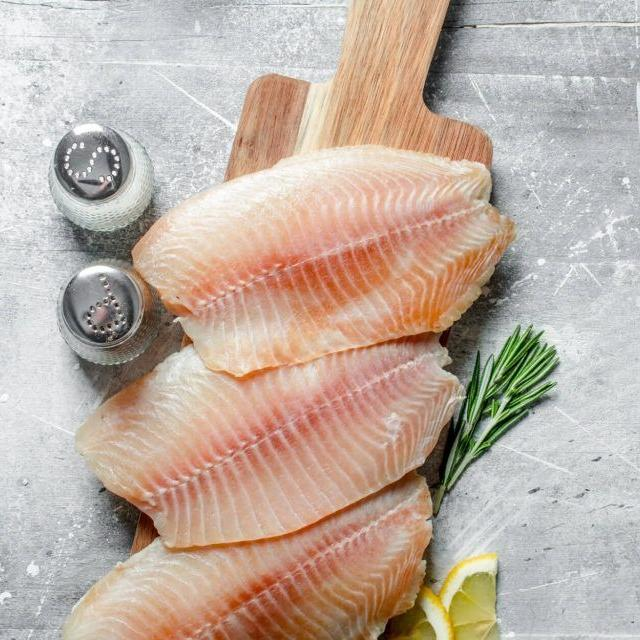fish: (124, 137, 529, 380)
